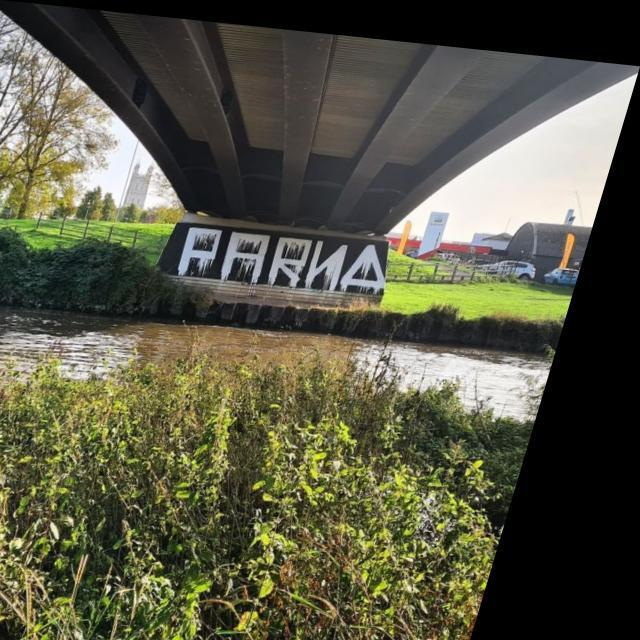-: (173, 218, 410, 292)
